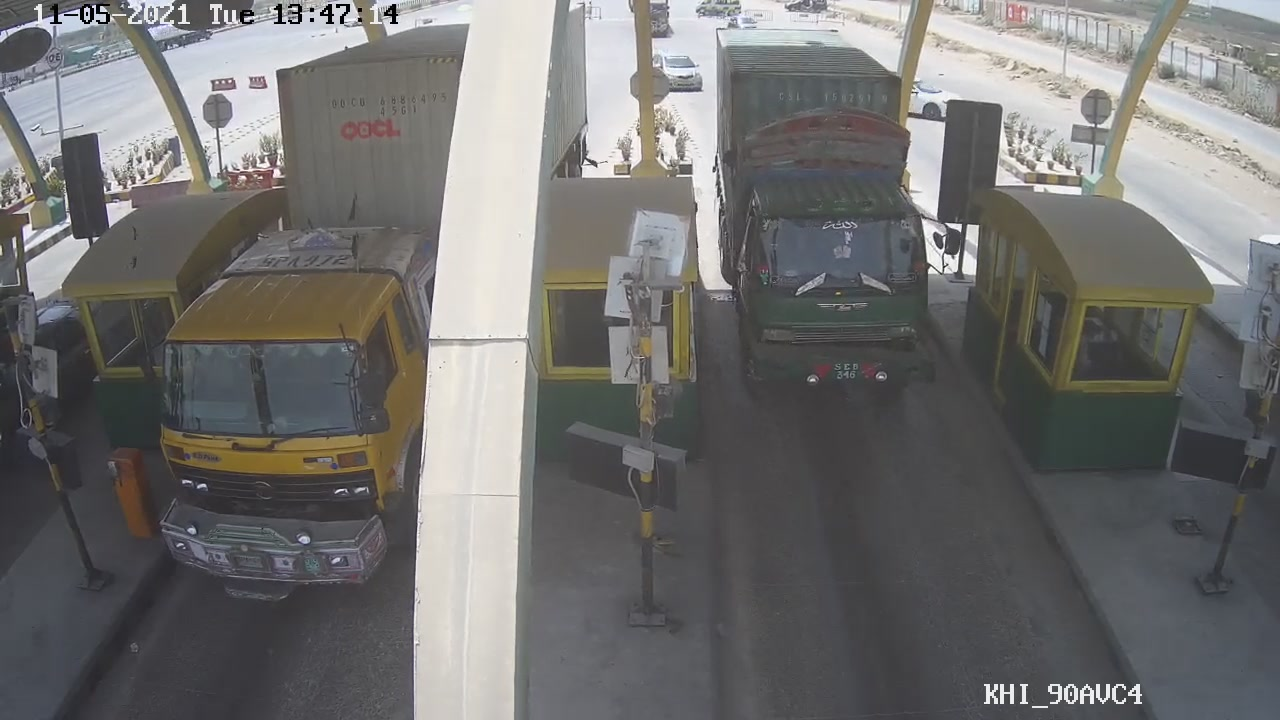F6: (708, 31, 957, 411)
